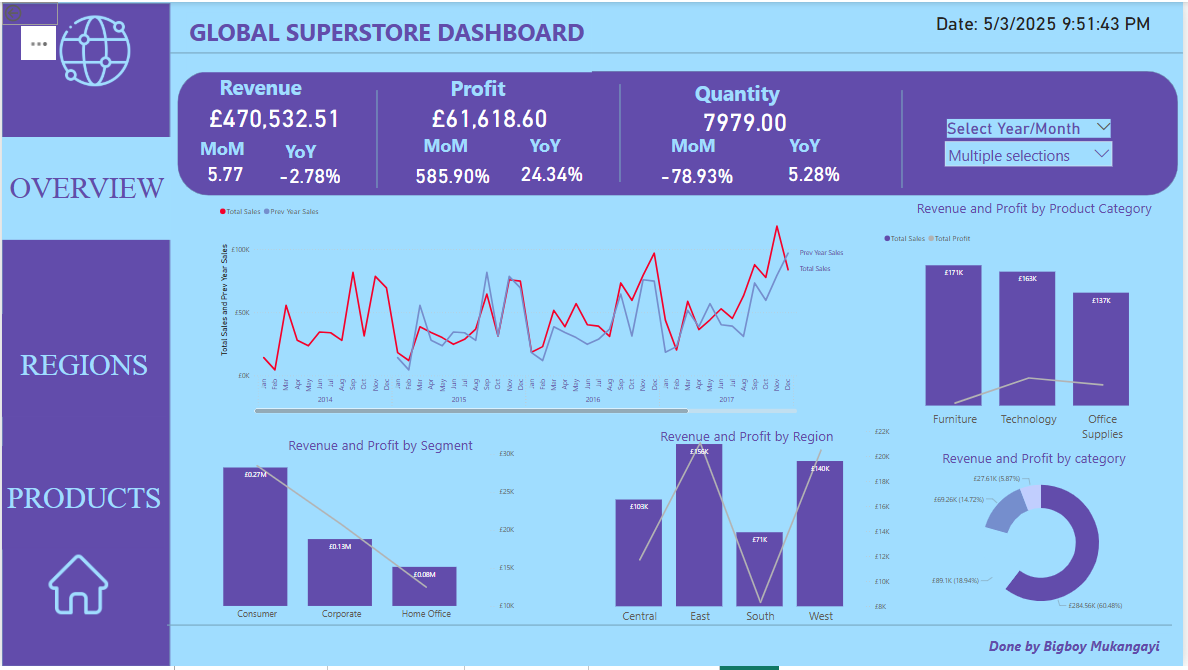

The dashboard page shown, as its layout file describes it:
{"tool":"powerbi","page":{"name":"Overview","canvas":[2133,1200],"ordinal":1},"visuals":[{"type":"shape","box":[316.7,125,1808.3,225],"z":0},{"type":"shape","box":[0,3.4,303.8,1198.1],"z":1000},{"type":"actionButton","box":[0,0,100,40],"z":2000},{"type":"textbox","box":[334.1,20.2,732.4,108],"z":3000},{"type":"shape","box":[303.6,62.4,1829.9,59.6],"z":4000},{"type":"shape","box":[297,1053,1815.8,148.5],"z":5000},{"type":"card","fields":{"Values":["Measures Table.Date/Time"]},"box":[1648.2,0,466.3,73.2],"z":6000},{"type":"image","box":[77.6,20.2,178.9,138.4],"z":7000},{"type":"image","box":[77.6,978.8,118.1,148.5],"z":8000},{"type":"actionButton","box":[0,563.6,297,185.6],"z":9000},{"type":"actionButton","box":[0,243,307.1,185.6],"z":10000},{"type":"textbox","box":[388.1,121.5,189,60.8],"z":11000},{"type":"card","fields":{"Values":["Measures Table.Total Sales"]},"box":[352.4,151.8,281.9,108.4],"z":12000},{"type":"card","fields":{"Values":["Measures Table.Sales MoM Growth %"]},"box":[341.6,265.7,122,84],"z":13000},{"type":"textbox","box":[352.4,235.8,111.1,59.6],"z":14000},{"type":"textbox","box":[506.9,241.3,94.9,59.6],"z":15000},{"type":"textbox","box":[805.1,124.7,122,59.6],"z":16000},{"type":"textbox","box":[1247,132.8,189.8,59.6],"z":17000},{"type":"card","fields":{"Values":["Measures Table.Sales YoY growth %"]},"box":[477.1,268.4,157.2,84],"z":18000},{"type":"card","fields":{"Values":["Measures Table.Total Profit"]},"box":[756.3,151.8,249.4,108.4],"z":19000},{"type":"card","fields":{"Values":["Measures Table.Total Quantity"]},"box":[1217.2,184.3,249.4,54.2],"z":20000},{"type":"slicer","fields":{"Values":["Calendar Table.Year","Calendar Table.Month Name"]},"box":[1694.4,205.6,322.2,102.8],"z":21000},{"type":"shape","box":[656,159.9,43.4,176.2],"z":22000},{"type":"shape","box":[1095.2,149.1,43.4,176.2],"z":23000},{"type":"textbox","box":[756.3,230.4,111.1,59.6],"z":24000},{"type":"textbox","box":[948.8,230.4,111.1,59.6],"z":25000},{"type":"card","fields":{"Values":["Measures Table.Profit MoM %"]},"box":[726.5,268.4,173.5,84],"z":26000},{"type":"card","fields":{"Values":["Measures Table.Profit YoY Growth%"]},"box":[900,265.7,187.1,84],"z":27000},{"type":"card","fields":{"Values":["Measures Table.Qty MoM growth"]},"box":[1168.4,268.4,173.5,84],"z":28000},{"type":"card","fields":{"Values":["Measures Table.Qty YoY growth %"]},"box":[1379.9,265.7,173.5,84],"z":29000},{"type":"textbox","box":[1203.6,230.4,111.1,59.6],"z":30000},{"type":"textbox","box":[1417.8,230.4,111.1,59.6],"z":31000},{"type":"shape","box":[1604.9,159.9,43.4,176.2],"z":32000},{"type":"lineChart","fields":{"Category":["Calendar Table.Year","Calendar Table.Month Name"],"Y":["Measures Table.Total Sales","Measures Table.Prev Year Sales"]},"box":[387.7,357.8,1141.3,390.4],"z":33000},{"type":"lineStackedColumnComboChart","fields":{"Category":["DimProduct.Category"],"Y":["Measures Table.Total Sales"],"Y2":["Measures Table.Total Profit"]},"box":[1588.6,406.6,512.4,395.8],"z":34000},{"type":"lineStackedColumnComboChart","fields":{"Y":["Measures Table.Total Sales"],"Y2":["Measures Table.Total Profit"],"Category":["DimCustomer.Segment"]},"box":[333.4,802.4,607.2,325.3],"z":35000},{"type":"lineStackedColumnComboChart","fields":{"Y":["Measures Table.Total Sales"],"Y2":["Measures Table.Total Profit"],"Category":["DimLocation.Location Hierarchy.State","DimLocation.Location Hierarchy.Region"]},"box":[1060,761.8,566.6,371.4],"z":36000},{"type":"donutChart","fields":{"Category":["DimShipMode.Ship Mode"],"Y":["Measures Table.Total Sales"]},"box":[1648.2,832.2,458.1,290.1],"z":37000},{"type":"textbox","box":[1648.2,349.7,466.3,56.9],"z":38000},{"type":"textbox","box":[1694.3,802.4,368.7,48.8],"z":39000},{"type":"textbox","box":[1184.7,761.8,368.7,48.8],"z":40000},{"type":"textbox","box":[512.4,778,368.7,48.8],"z":41000},{"type":"actionButton","box":[0,803.3,296.7,186.7],"z":42000},{"type":"textbox","box":[1778.6,1140.8,334.1,60.8],"z":43000}]}

Visuals, with their boxes in screenshot pixels (x1, y1, x2, y2), scaled from the page's 2133x1200 canvas onto the 1188x670 screenshot:
shape: (left=176, top=70, right=1184, bottom=195)
shape: (left=0, top=2, right=169, bottom=669)
actionButton: (left=0, top=0, right=56, bottom=22)
textbox: (left=186, top=11, right=594, bottom=72)
shape: (left=169, top=35, right=1187, bottom=68)
shape: (left=165, top=588, right=1177, bottom=669)
card - Measures Table.Date/Time: (left=918, top=0, right=1178, bottom=41)
image: (left=43, top=11, right=143, bottom=89)
image: (left=43, top=546, right=109, bottom=629)
actionButton: (left=0, top=315, right=165, bottom=418)
actionButton: (left=0, top=136, right=171, bottom=239)
textbox: (left=216, top=68, right=321, bottom=102)
card - Measures Table.Total Sales: (left=196, top=85, right=353, bottom=145)
card - Measures Table.Sales MoM Growth %: (left=190, top=148, right=258, bottom=195)
textbox: (left=196, top=132, right=258, bottom=165)
textbox: (left=282, top=135, right=335, bottom=168)
textbox: (left=448, top=70, right=516, bottom=103)
textbox: (left=695, top=74, right=800, bottom=107)
card - Measures Table.Sales YoY growth %: (left=266, top=150, right=353, bottom=197)
card - Measures Table.Total Profit: (left=421, top=85, right=560, bottom=145)
card - Measures Table.Total Quantity: (left=678, top=103, right=817, bottom=133)
slicer - Calendar Table.Year x Calendar Table.Month Name: (left=944, top=115, right=1123, bottom=172)
shape: (left=365, top=89, right=390, bottom=188)
shape: (left=610, top=83, right=634, bottom=182)
textbox: (left=421, top=129, right=483, bottom=162)
textbox: (left=528, top=129, right=590, bottom=162)
card - Measures Table.Profit MoM %: (left=405, top=150, right=501, bottom=197)
card - Measures Table.Profit YoY Growth%: (left=501, top=148, right=605, bottom=195)
card - Measures Table.Qty MoM growth: (left=651, top=150, right=747, bottom=197)
card - Measures Table.Qty YoY growth %: (left=769, top=148, right=865, bottom=195)
textbox: (left=670, top=129, right=732, bottom=162)
textbox: (left=790, top=129, right=852, bottom=162)
shape: (left=894, top=89, right=918, bottom=188)
lineChart - Calendar Table.Year x Calendar Table.Month Name: (left=216, top=200, right=852, bottom=418)
lineStackedColumnComboChart - DimProduct.Category x Measures Table.Total Sales: (left=885, top=227, right=1170, bottom=448)
lineStackedColumnComboChart - Measures Table.Total Sales x Measures Table.Total Profit: (left=186, top=448, right=524, bottom=630)
lineStackedColumnComboChart - Measures Table.Total Sales x Measures Table.Total Profit: (left=590, top=425, right=906, bottom=633)
donutChart - DimShipMode.Ship Mode x Measures Table.Total Sales: (left=918, top=465, right=1173, bottom=627)
textbox: (left=918, top=195, right=1178, bottom=227)
textbox: (left=944, top=448, right=1149, bottom=475)
textbox: (left=660, top=425, right=865, bottom=453)
textbox: (left=285, top=434, right=491, bottom=462)
actionButton: (left=0, top=449, right=165, bottom=553)
textbox: (left=991, top=637, right=1177, bottom=669)
